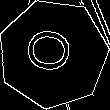O_E: (25, 29, 81, 79)
